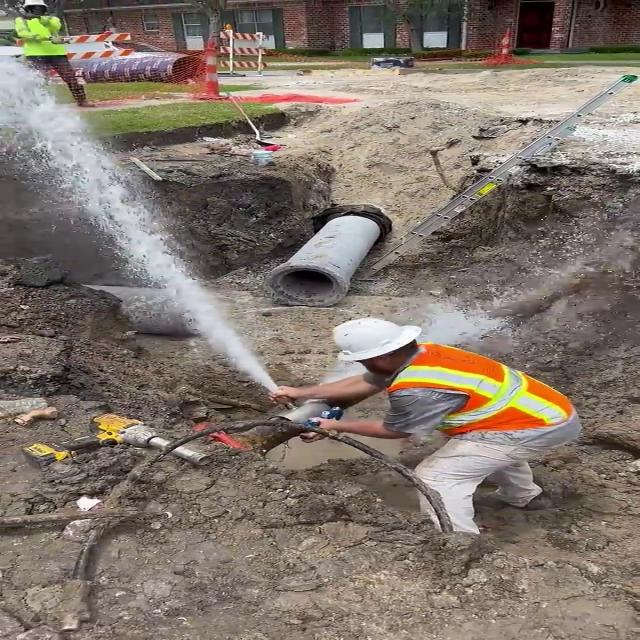leak: (0, 41, 287, 392), (321, 293, 527, 386)
